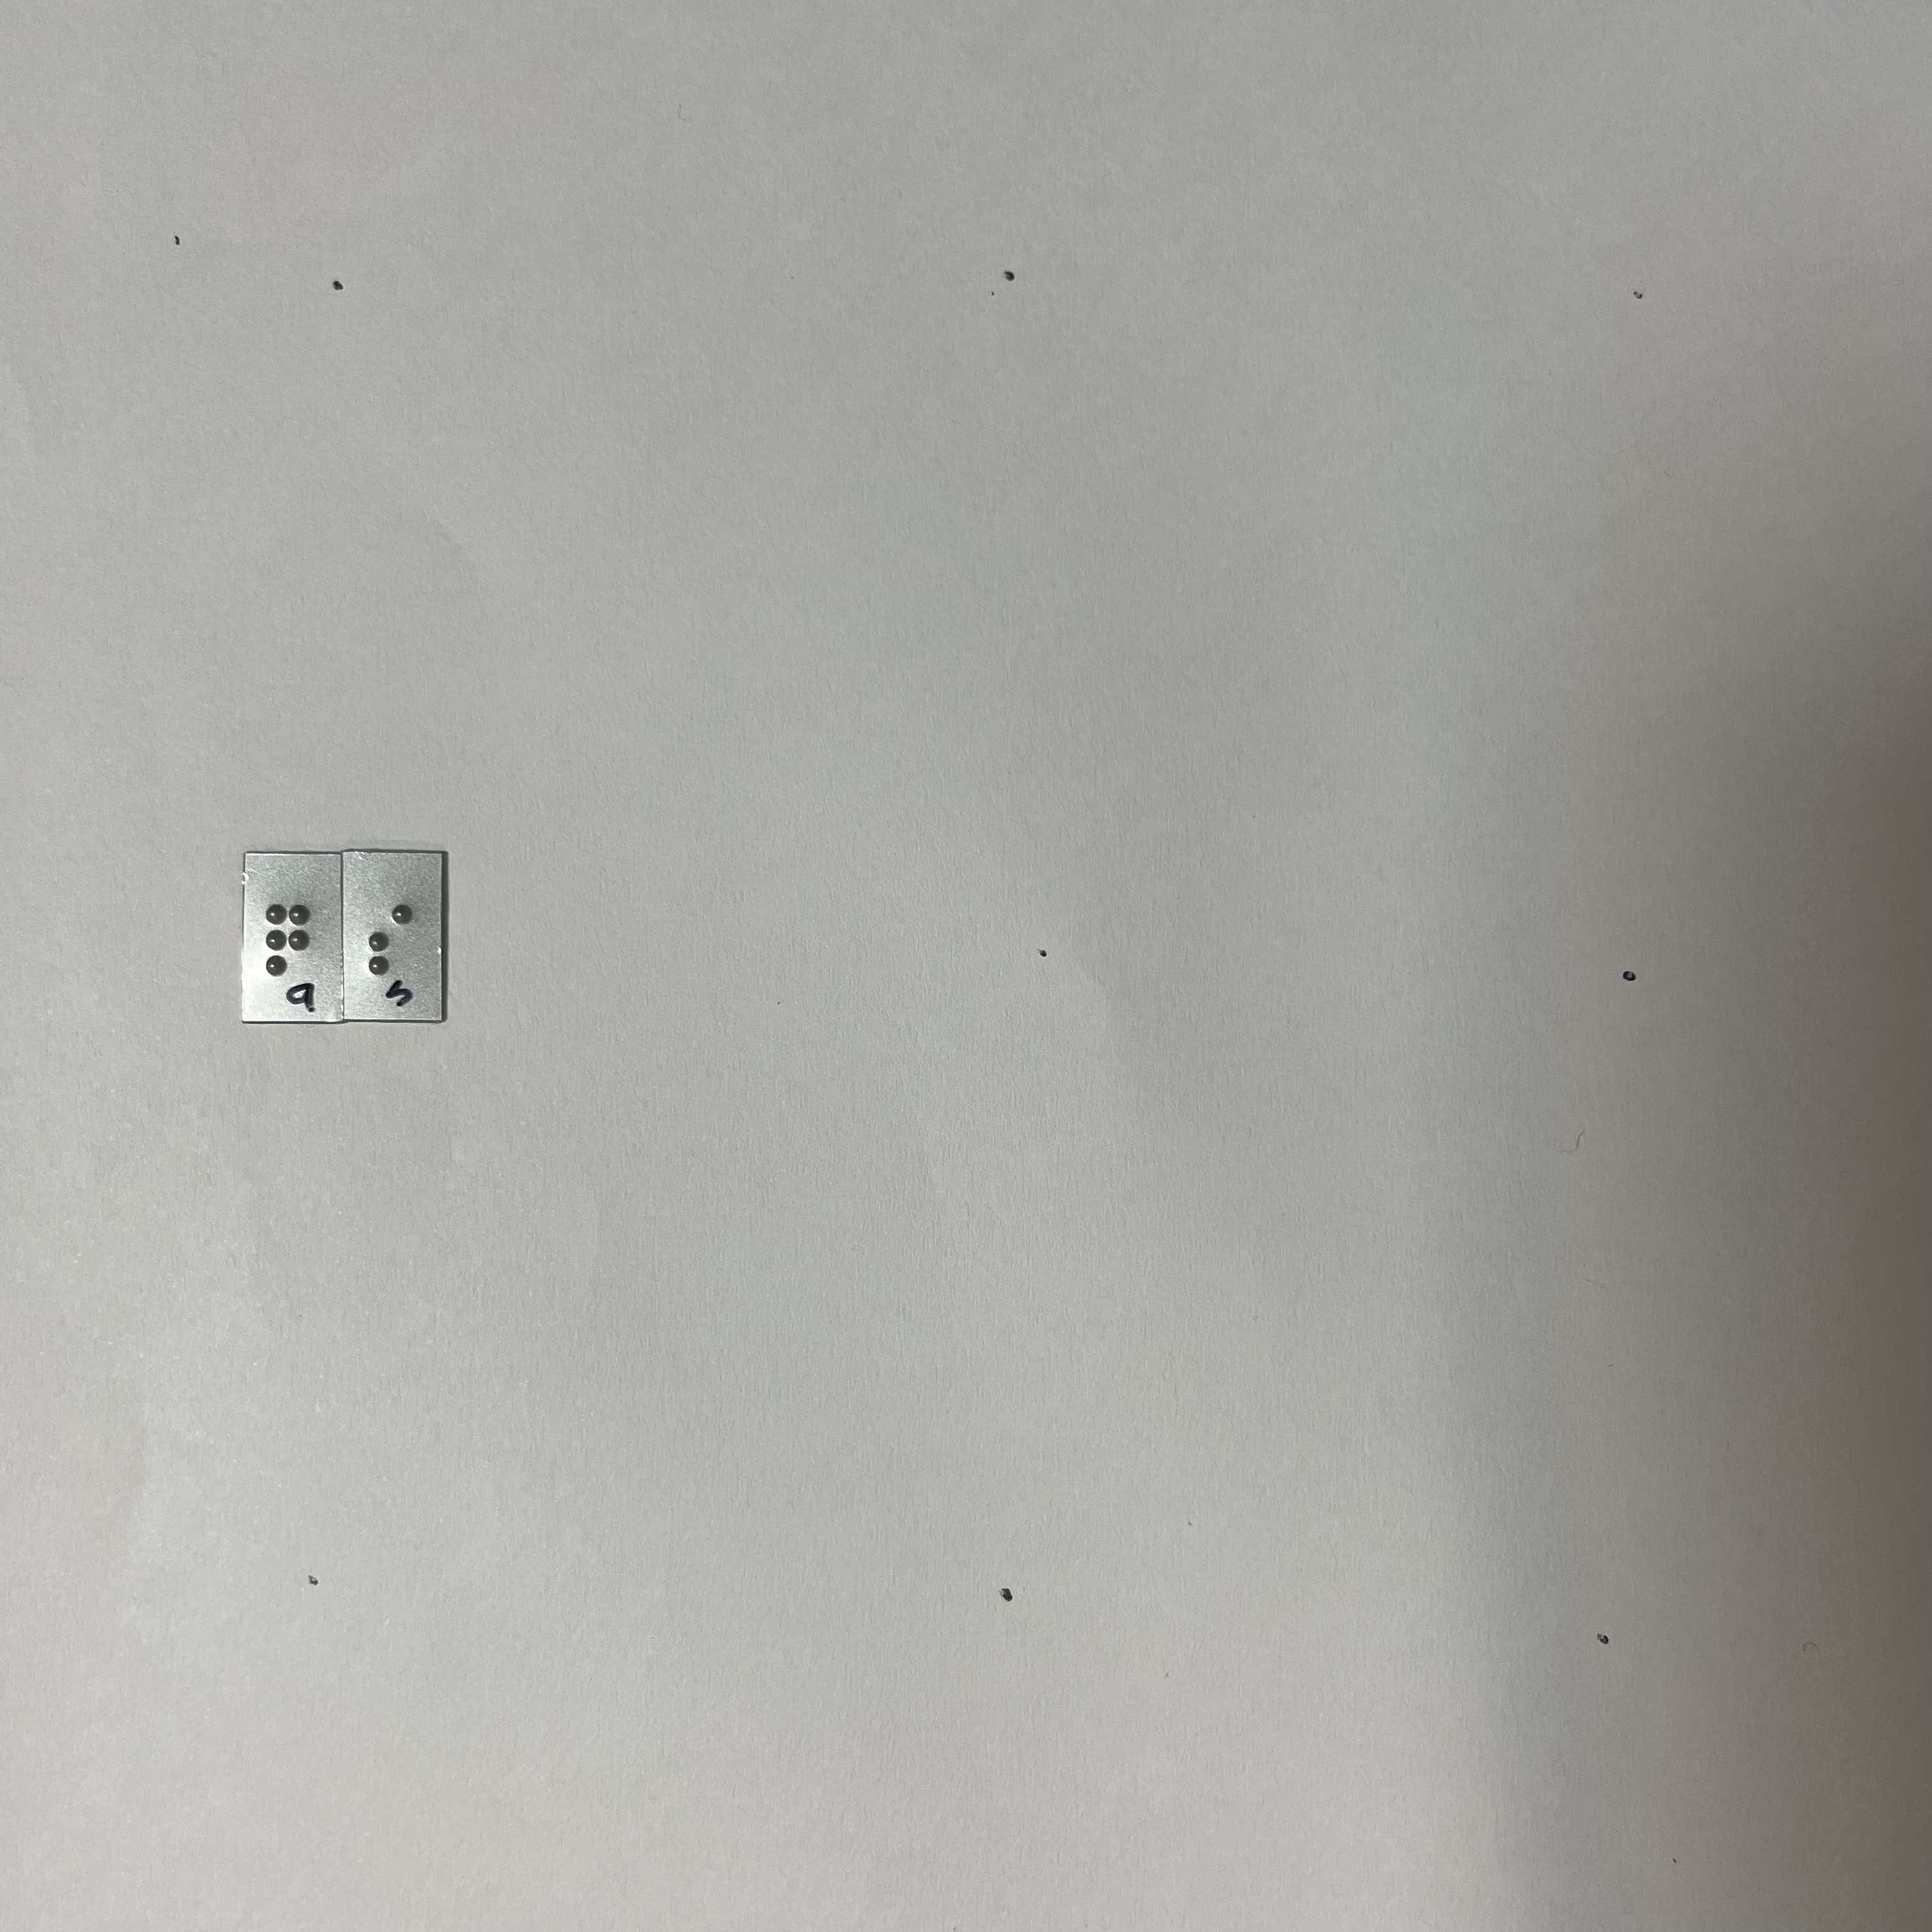q: (256, 896, 318, 980)
s: (360, 899, 419, 976)
